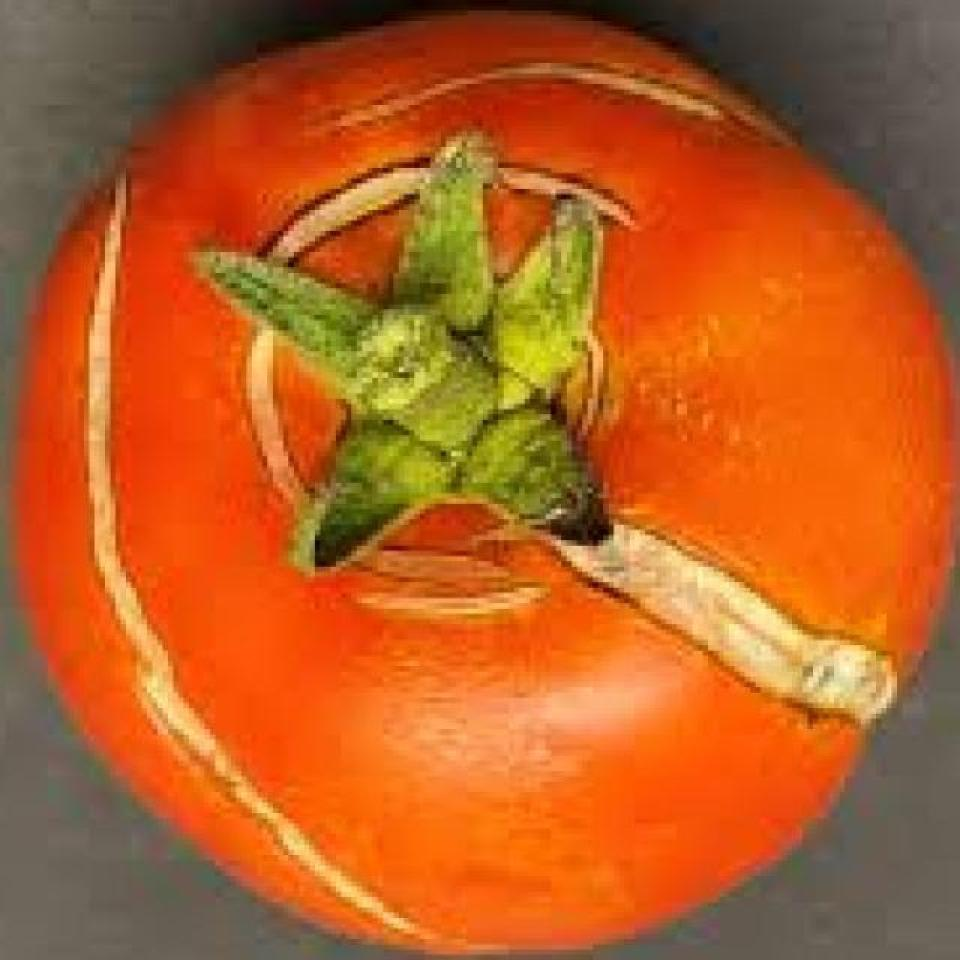Cracking: (62, 149, 440, 924), (209, 28, 777, 166), (198, 148, 690, 270)
